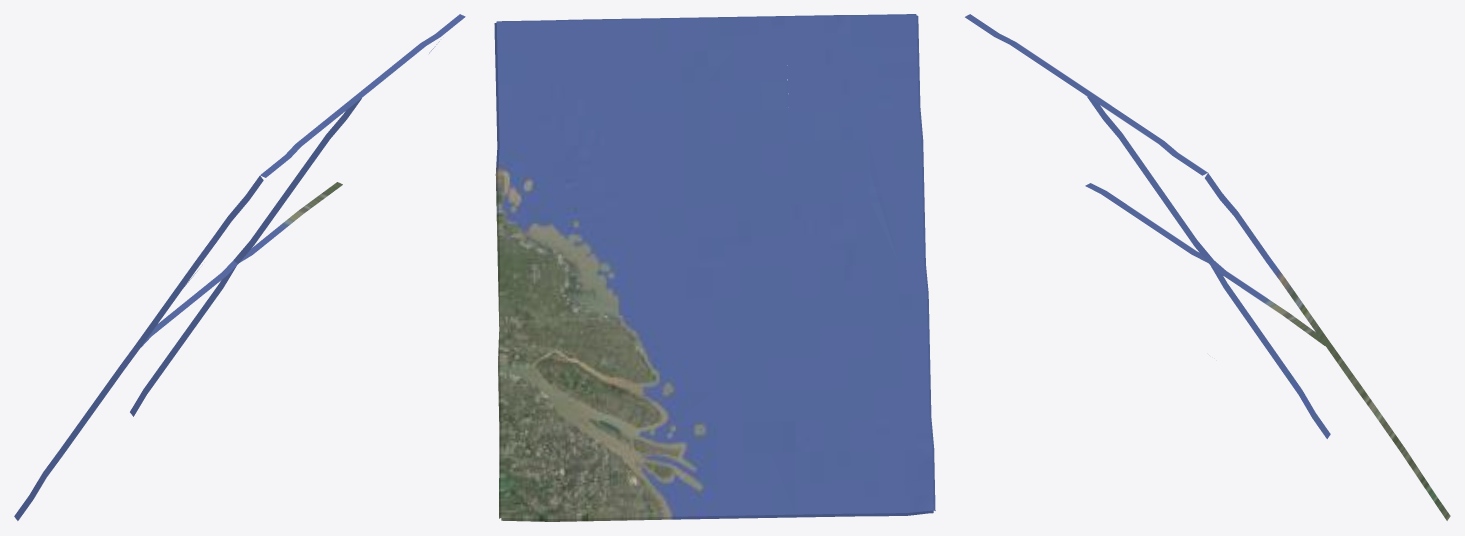
3 views of the same model, side by side, from view 1: azimuth 30°, elevation 25°; view 2: azimuth 150°, elevation 25°; view 3: azimuth 270°, elevation 25° (orthographic). The views are drawn at different scales.
Size of the model in its own units: 317186 by 268628 by 287008.
Materials: 1 (1 with a texture image).
